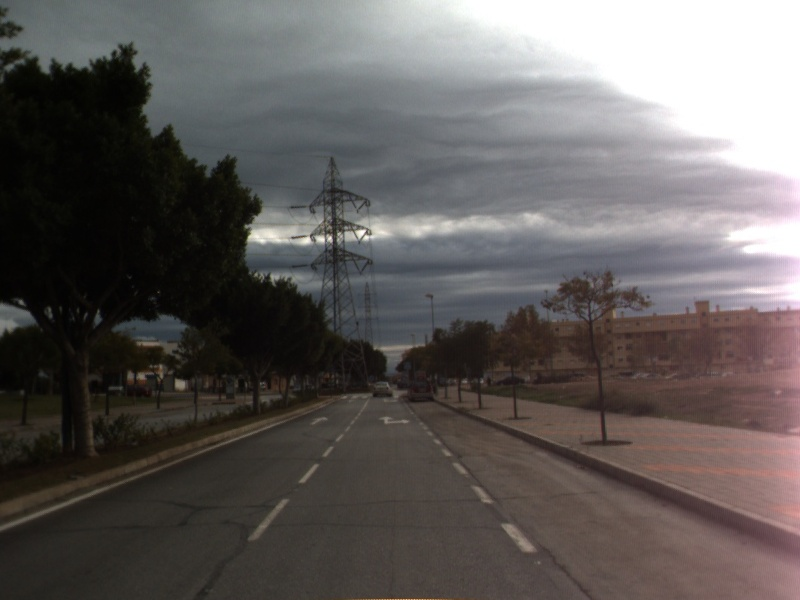STRAIGHT: (307, 414, 331, 427)
STRAIGHT_RIGHT: (377, 414, 413, 426)
